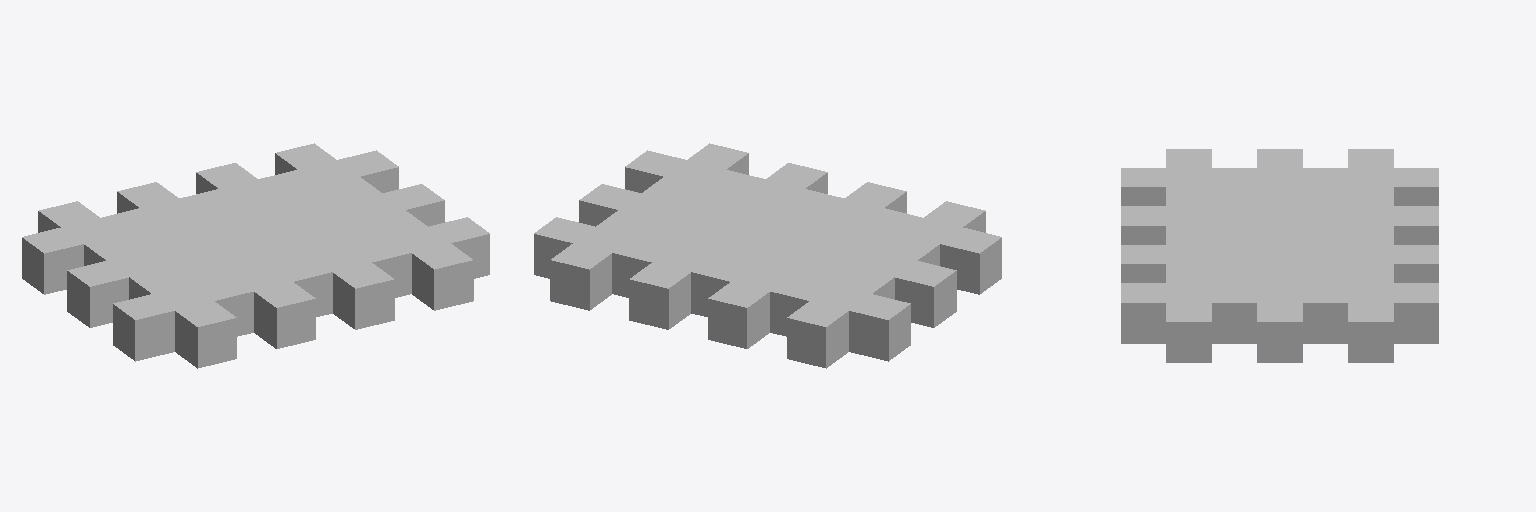
File: HHY Chip.obj
3 renders of one model, left to right at view 1: azimuth 30°, elevation 25°; view 2: azimuth 150°, elevation 25°; view 3: azimuth 270°, elevation 25°, orthographic.
Size of the model in its own units: 9 by 1 by 7.